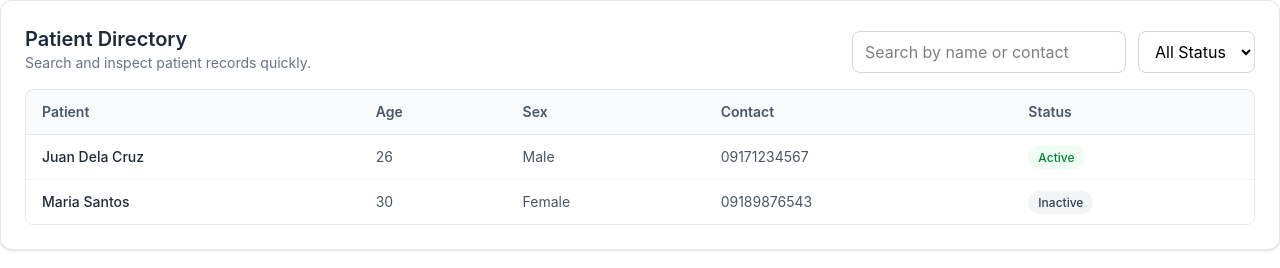
Test: PatientList Component › filters rows based on status dropdown selection
Expected: the text "Juan Dela Cruz" is shown, x1=26 y1=134 x2=360 y2=180
# Select "Inactive" filter
Select "Inactive" in the dropdown named "filter by status": (1196,52) x1=1138 y1=31 x2=1255 y2=73
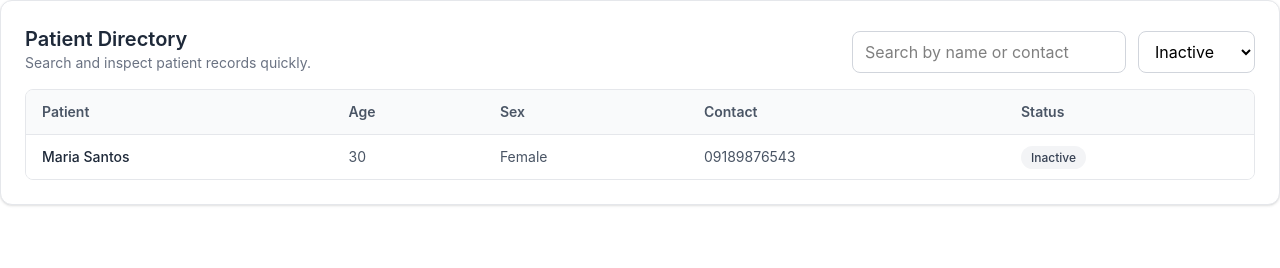
Expected: the text "Maria Santos" is shown, x1=26 y1=134 x2=332 y2=179
Now the text "Juan Dela Cruz" is gone
